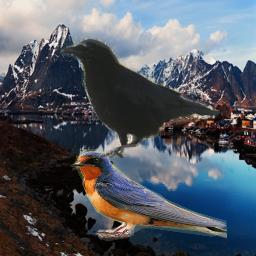Crow: (57, 35, 220, 158)
Swallow: (70, 148, 227, 243)
